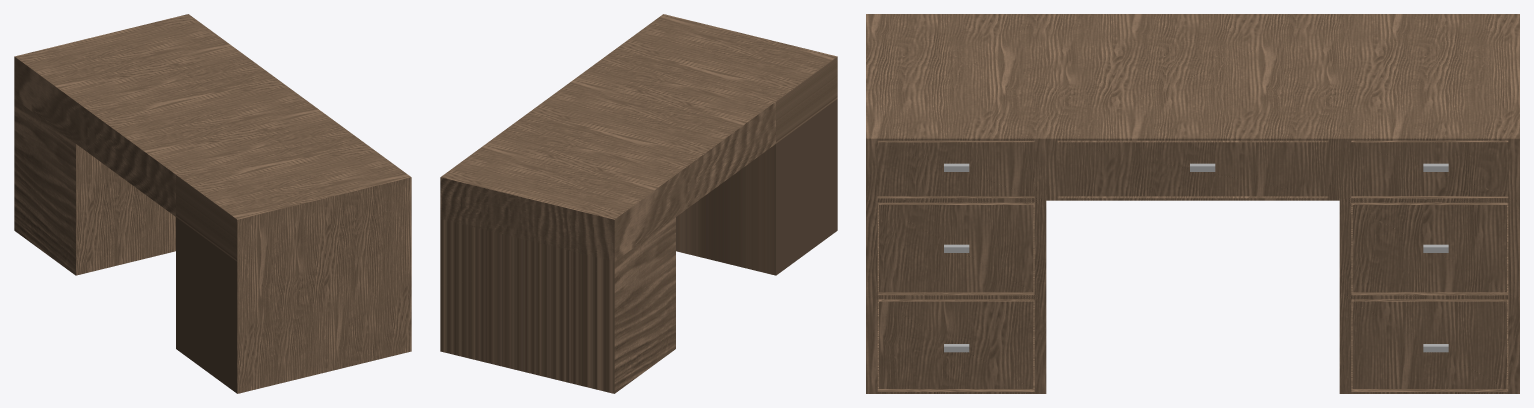
The model's file is desk.glb.
3 renders of one model, left to right at view 1: azimuth 30°, elevation 25°; view 2: azimuth 150°, elevation 25°; view 3: azimuth 270°, elevation 25°, orthographic. The views are drawn at different scales.
Visible parts, largest first — view 1: Dresser; view 2: Dresser; view 3: Dresser, CenterDrawer, RightMidDrawer, LeftMidDrawer, RightBottomDrawer, LeftBottomDrawer, RightTopDrawer, LeftTopDrawer.
Part boxes in pixels (<box>): Dresser: <box>14,14,411,393</box>; Dresser: <box>440,14,837,393</box>; Dresser: <box>866,14,1519,393</box>; CenterDrawer: <box>1057,140,1328,196</box>; RightMidDrawer: <box>1352,202,1506,292</box>; LeftMidDrawer: <box>879,202,1033,292</box>; RightBottomDrawer: <box>1352,299,1506,388</box>; LeftBottomDrawer: <box>879,299,1033,388</box>; RightTopDrawer: <box>1351,140,1508,196</box>; LeftTopDrawer: <box>877,140,1034,196</box>.
Size of the model in its own units: 2.04 by 1.91 by 4.44.
2 materials, 1 textured.
